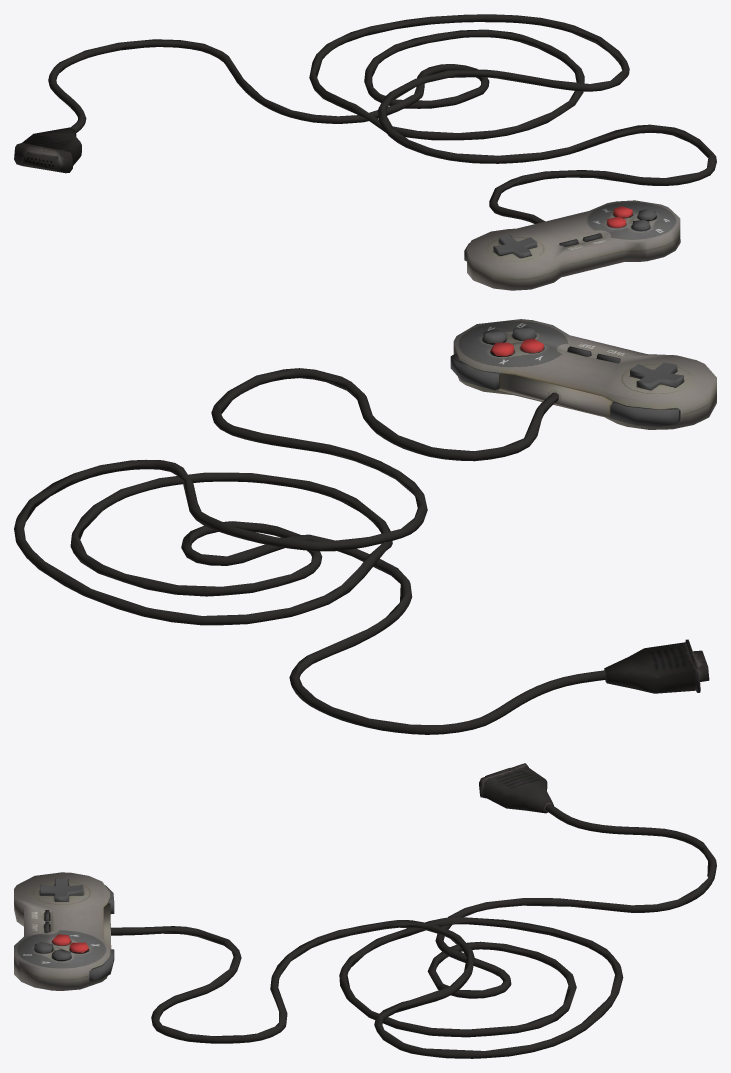
File: gamepad.glb
3 views of the same model, one above another, from view 1: azimuth 30°, elevation 25°; view 2: azimuth 150°, elevation 25°; view 3: azimuth 270°, elevation 25° (orthographic). The views are drawn at different scales.
Parts seen in each view (by area): view 1: gamepad; view 2: gamepad; view 3: gamepad.
Boxes of the visible parts, <box> form: gamepad: <box>14,14,716,290</box>; gamepad: <box>14,319,716,734</box>; gamepad: <box>14,763,716,1058</box>.
Bounding box in the file's own units: 0.4041 × 0.0187 × 0.4339.
1 material, 1 textured.
